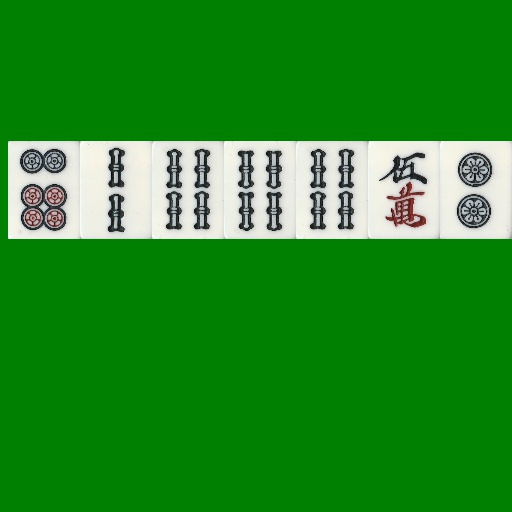2p: (440, 141, 512, 239)
2s: (80, 141, 152, 239)
4s: (152, 141, 224, 239), (224, 141, 296, 239), (296, 141, 368, 239)
5m: (368, 141, 440, 239)
6p: (8, 141, 80, 239)
